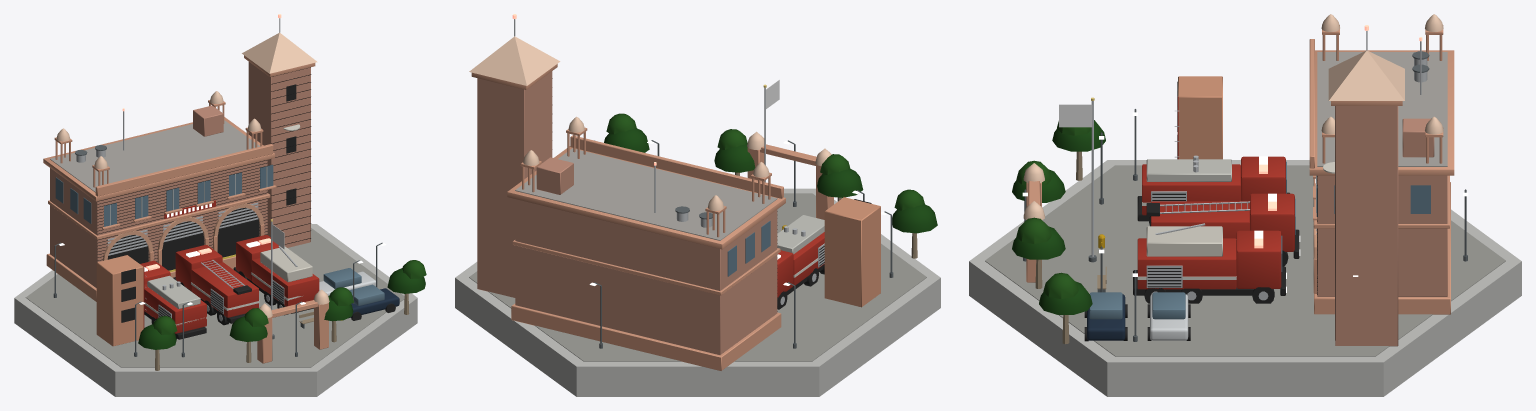
Rendered from fireStation_india.glb.
3 views of the same model, side by side, from view 1: azimuth 30°, elevation 25°; view 2: azimuth 150°, elevation 25°; view 3: azimuth 270°, elevation 25° (orthographic). The views are drawn at different scales.
Parts seen in each view (by area): view 1: brick, wall_concrete, stone, pavers, paint, dark, gravel, leaf, glass, metal, plaster, steel_dark (+1 smaller); view 2: brick, stone, wall_concrete, pavers, gravel, leaf, plaster, paint, steel_dark, metal, glass, dark; view 3: pavers, wall_concrete, brick, paint, stone, gravel, leaf, plaster, dark, glass, metal, steel_dark (+2 smaller).
Part boxes in pixels (x1,y1,x2,y2): brick: (50, 62, 310, 287); wall_concrete: (14, 166, 417, 396); stone: (43, 55, 328, 363); pavers: (25, 228, 404, 367); paint: (140, 124, 399, 333); dark: (97, 67, 395, 339); gravel: (50, 120, 259, 192); leaf: (138, 260, 426, 349); glass: (55, 165, 384, 305); metal: (76, 18, 297, 334); plaster: (56, 32, 329, 317); steel_dark: (53, 145, 382, 357); brick: (477, 71, 777, 354); stone: (471, 64, 880, 370); wall_concrete: (455, 188, 940, 396); pavers: (469, 193, 926, 361); gravel: (515, 148, 777, 240); leaf: (604, 113, 937, 233); plaster: (469, 36, 831, 210); paint: (777, 215, 824, 297); steel_dark: (594, 140, 893, 348); metal: (514, 19, 824, 304); glass: (727, 220, 770, 276); dark: (552, 78, 871, 311); pavers: (985, 165, 1505, 356); wall_concrete: (969, 160, 1521, 396); brick: (1317, 106, 1447, 346); paint: (1087, 97, 1334, 340); stone: (1026, 25, 1454, 314); gravel: (1317, 52, 1447, 166); leaf: (1012, 120, 1105, 314); plaster: (1023, 14, 1443, 219); dark: (1084, 81, 1335, 341); glass: (1089, 161, 1430, 319); metal: (1091, 31, 1427, 300); steel_dark: (1023, 51, 1467, 341).
Size of the model in its own units: 21.3 by 16.8 by 24.6.
